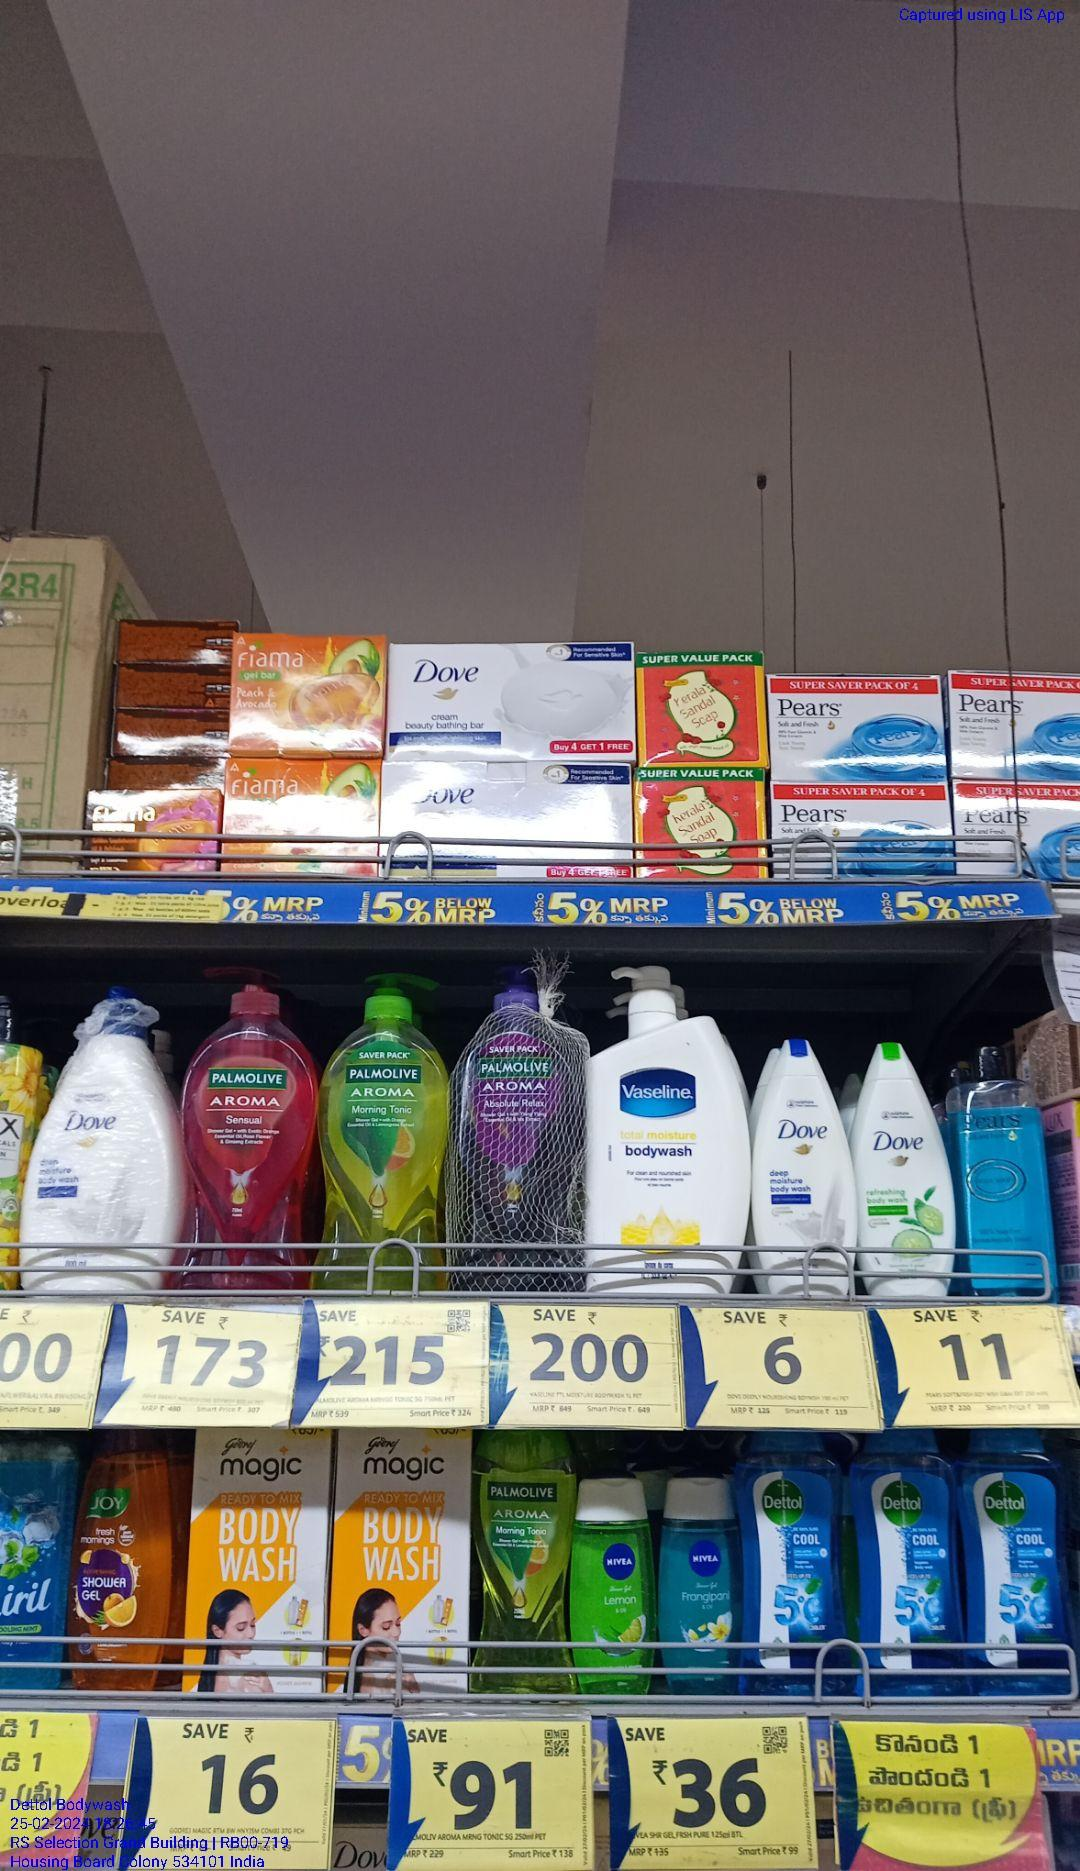Dettol_Bodywash_Cool: (735, 1432, 849, 1696), (964, 1426, 1072, 1699), (855, 1430, 962, 1691)
Dove_Deep_Moisture_Body_Wash_250ML: (760, 1032, 854, 1293)
Dove_Refreshing_Body_Wash_250ML: (861, 1038, 951, 1293)
Joy_Shower_Gel_Mandarin_and_Lemongrass_250ML: (82, 1430, 176, 1689)
Liril_Cooling_Mint_Body_Wash_250ML: (0, 1432, 80, 1689)
Palmolive_Aroma_Morning_Tonic_Shower_Gel_250ML: (478, 1428, 573, 1692)
Pears_Pure_Glycerin_and_Mint_Extracts_Body_Wash_250ML: (964, 1041, 1057, 1298)
